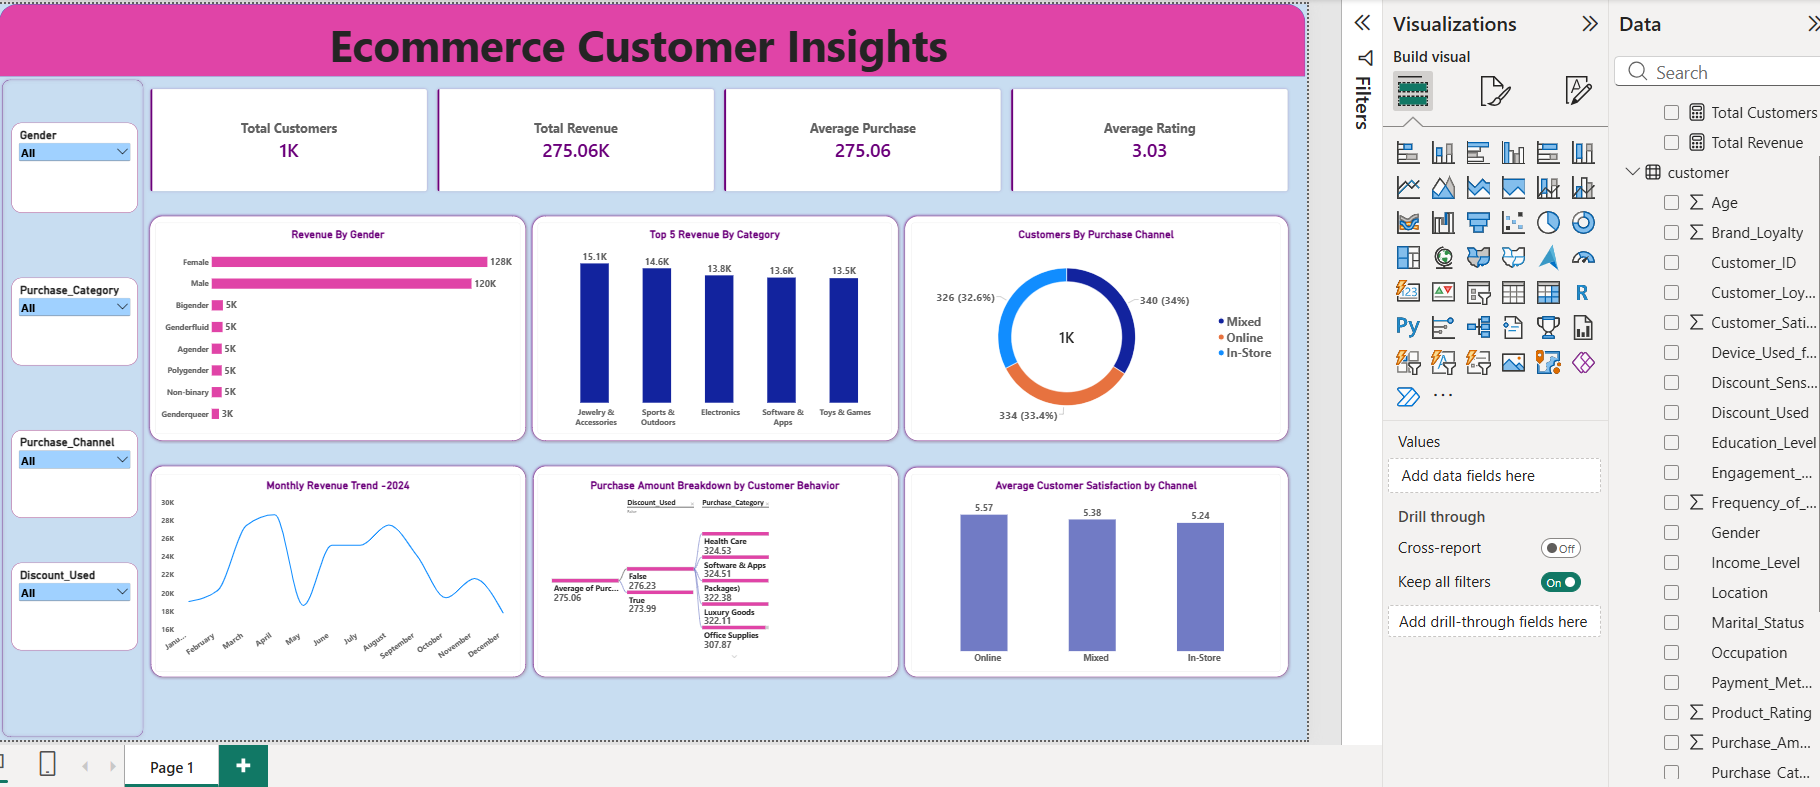

This screenshot's page, from the dashboard's own definition file:
{"tool":"powerbi","page":{"name":"Page 1","canvas":[3840,2160],"ordinal":0},"visuals":[{"type":"shape","box":[0,0,3833.6,212.8],"z":0},{"type":"textbox","box":[161.4,33,3430,179.8],"z":1000},{"type":"cardVisual","fields":{"Data":["MeasureTable.Total Customers","MeasureTable.Total Revenue","MeasureTable.Average Purchase","MeasureTable.Average Rating"]},"box":[432.9,238.5,3360.3,322.8],"z":2000},{"type":"shape","box":[432.9,612.6,1122.6,678.7],"z":3000},{"type":"clusteredBarChart","title":"Revenue By Gender","fields":{"Category":["customer.Gender"],"Y":["Sum(customer.Purchase_Amount)"]},"box":[458.6,642,1071.2,620],"z":4000},{"type":"shape","box":[1555.4,612.6,1093.2,678.7],"z":5000},{"type":"shape","box":[2648.7,612.6,1144.6,678.7],"z":6000},{"type":"columnChart","title":"Top 5 Revenue By Category","fields":{"Category":["customer.Purchase_Category"],"Y":["MeasureTable.Total Revenue"]},"box":[1581.1,642,1038.2,620],"z":7000},{"type":"donutChart","title":"Customers By Purchase Channel","fields":{"Category":["customer.Purchase_Channel"],"Y":["CountNonNull(customer.Customer_ID)"]},"box":[2678,642,1082.2,620],"z":8000},{"type":"shape","box":[436.6,1346.3,1118.9,638.3],"z":9000},{"type":"lineChart","title":" Monthly Revenue Trend  -2024","fields":{"Category":["customer.Time_of_Purchase.Variation.Date Hierarchy.Year","customer.Time_of_Purchase.Variation.Date Hierarchy.Month"],"Y":["Sum(customer.Purchase_Amount)"]},"box":[458.6,1379.4,1071.2,579.6],"z":10000},{"type":"shape","box":[1559.1,1346.3,1089.5,638.3],"z":11000},{"type":"shape","box":[2648.7,1350,1144.6,634.7],"z":12000},{"type":"decompositionTreeVisual","title":"Purchase Amount Breakdown by Customer Behavior","fields":{"Analyze":["Avg(customer.Purchase_Amount)"],"ExplainBy":["customer.Discount_Used","customer.Purchase_Category"]},"box":[1581.1,1379.4,1038.2,579.6],"z":13000},{"type":"clusteredColumnChart","title":"Average Customer Satisfaction by Channel","fields":{"Category":["customer.Purchase_Channel"],"Y":["Avg(customer.Customer_Satisfaction)"]},"box":[2678,1379.4,1082.2,579.6],"z":14000},{"type":"shape","box":[0,212.8,432.9,1948],"z":15000},{"type":"slicer","fields":{"Values":["customer.Gender"]},"box":[36.7,348.5,370.5,264.1],"z":16000},{"type":"slicer","fields":{"Values":["customer.Purchase_Category"]},"box":[36.7,803.4,370.5,256.8],"z":17000},{"type":"slicer","fields":{"Values":["customer.Purchase_Channel"]},"box":[36.7,1251,370.5,256.8],"z":18000},{"type":"slicer","fields":{"Values":["customer.Discount_Used"]},"box":[36.7,1639.8,370.5,256.8],"z":18001}]}

Visuals, with their boxes in screenshot pixels (x1, y1, x2, y2):
shape: <region>0, 0, 1314, 69</region>
textbox: <region>42, 7, 1230, 69</region>
cardVisual - MeasureTable.Total Customers x MeasureTable.Total Revenue: <region>136, 78, 1300, 190</region>
shape: <region>136, 208, 525, 443</region>
"Revenue By Gender" clusteredBarChart: <region>145, 218, 516, 433</region>
shape: <region>525, 208, 903, 443</region>
shape: <region>904, 208, 1300, 443</region>
"Top 5 Revenue By Category" columnChart: <region>534, 218, 893, 433</region>
"Customers By Purchase Channel" donutChart: <region>914, 218, 1289, 433</region>
shape: <region>137, 462, 525, 683</region>
" Monthly Revenue Trend  -2024" lineChart: <region>145, 473, 516, 674</region>
shape: <region>526, 462, 903, 683</region>
shape: <region>904, 463, 1300, 683</region>
"Purchase Amount Breakdown by Customer Behavior" decompositionTreeVisual: <region>534, 473, 893, 674</region>
"Average Customer Satisfaction by Channel" clusteredColumnChart: <region>914, 473, 1289, 674</region>
shape: <region>0, 69, 136, 744</region>
slicer - customer.Gender: <region>0, 116, 127, 208</region>
slicer - customer.Purchase_Category: <region>0, 274, 127, 363</region>
slicer - customer.Purchase_Channel: <region>0, 429, 127, 518</region>
slicer - customer.Discount_Used: <region>0, 563, 127, 652</region>
